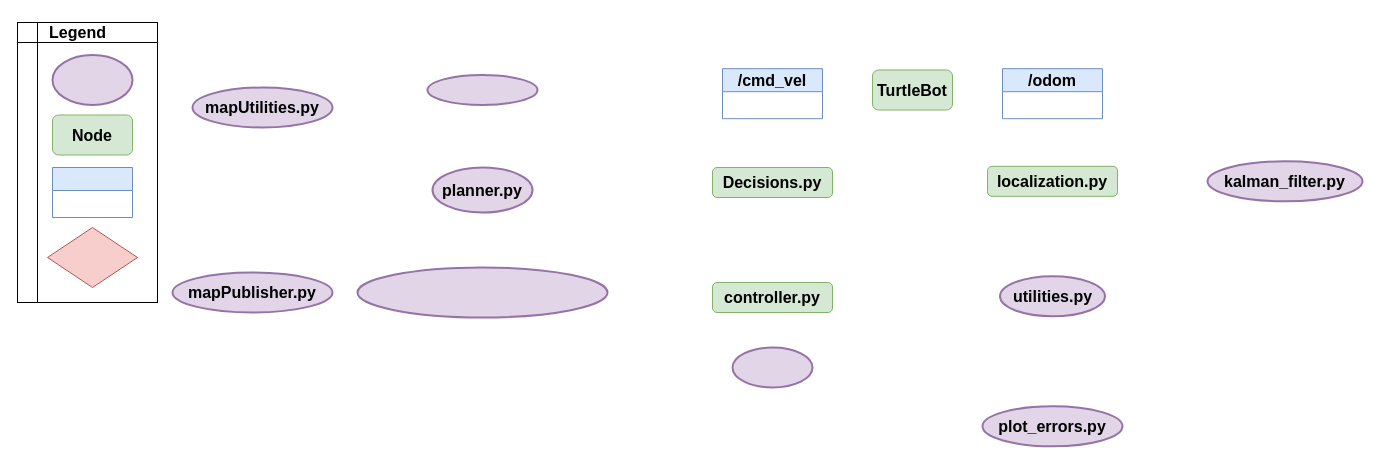
The diagram is 1381 pixels wide and 464 high, and some of its shapes have lost their labels. Here are the shapes that lost their labels. From the top down, the centre of each, then its label:
At (x=92, y=80): "Module".
At (x=482, y=90): "a_star.py".
At (x=92, y=192): "/topic".
At (x=92, y=257): "Hardware".
At (x=482, y=292): "probabalistic_road_map.py".
At (x=772, y=367): "pid.py".
